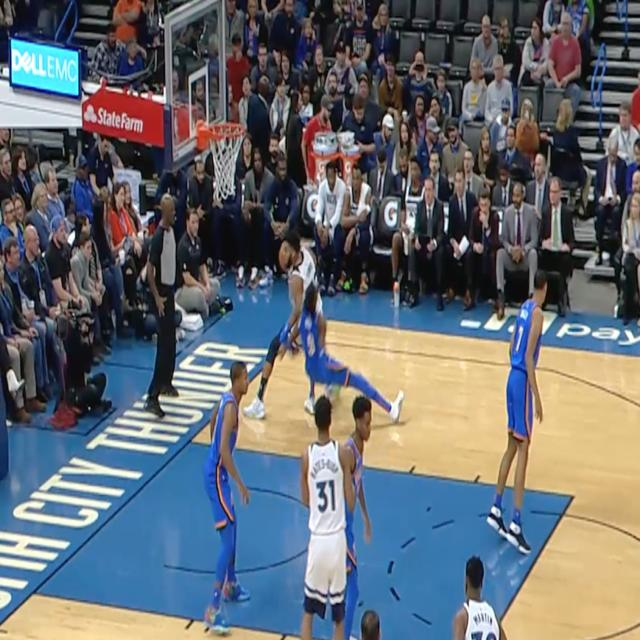Foul: (280, 241, 346, 396)
